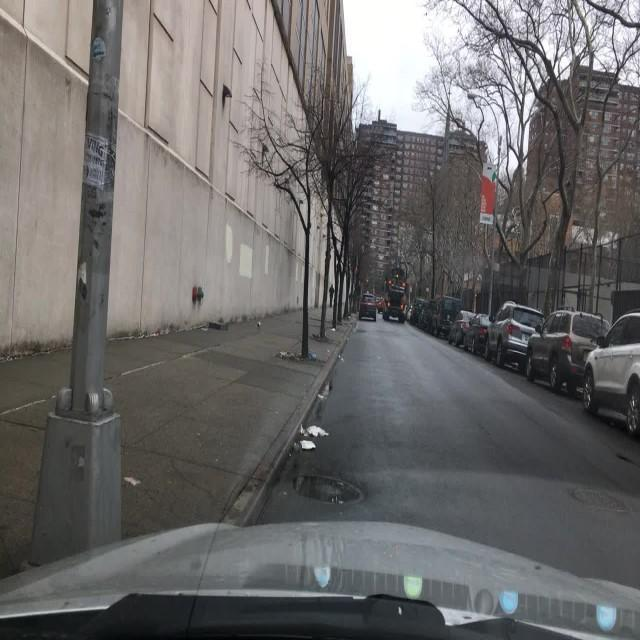normal: (2, 517, 622, 640), (581, 306, 640, 436), (524, 311, 611, 395), (482, 300, 544, 370), (463, 312, 490, 355), (448, 310, 475, 346)
